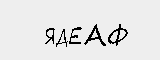А: (85, 24, 108, 49)
Д: (55, 26, 67, 46)
Е: (69, 24, 81, 46)
Ф: (105, 23, 127, 46)
Я: (42, 26, 59, 46)
